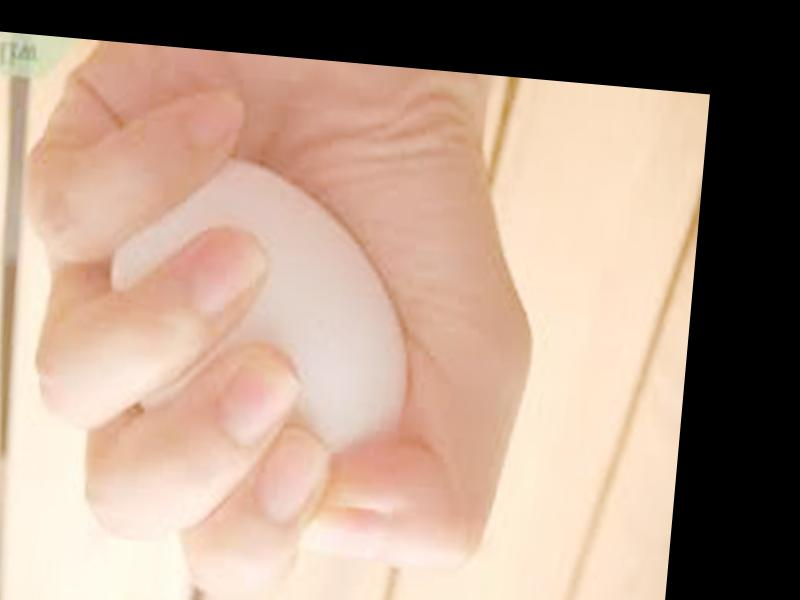Eggs: (95, 150, 427, 458)
